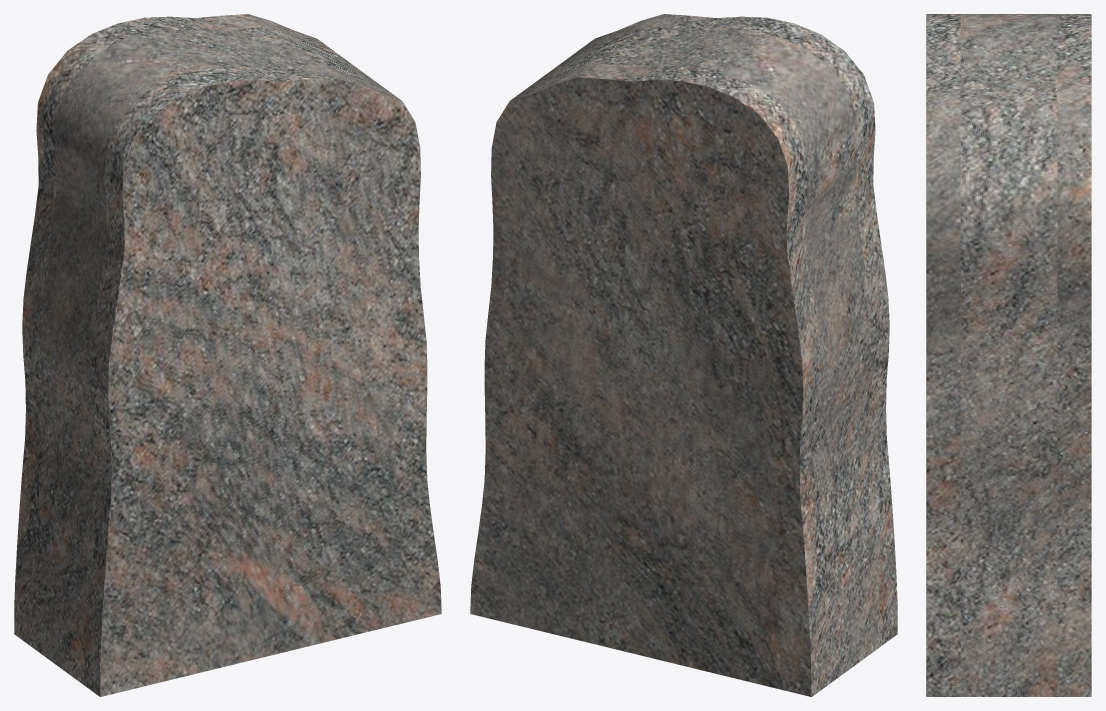
File: stone5.glb
3 renders of one model, left to right at view 1: azimuth 30°, elevation 25°; view 2: azimuth 150°, elevation 25°; view 3: azimuth 270°, elevation 25°, orthographic. The views are drawn at different scales.
Parts seen in each view (by area): view 1: small, big; view 2: big, small; view 3: small, big.
Boxes of the visible parts, x1,y1,x2,y2 form: small: (14,14,441,696); big: (32,27,410,677); big: (501,27,879,688); small: (470,14,897,696); small: (926,14,1091,696); big: (960,14,1057,696).
Size of the model in its own units: 0.5495 by 0.8996 by 0.24.
Materials: 1 (1 with a texture image).
